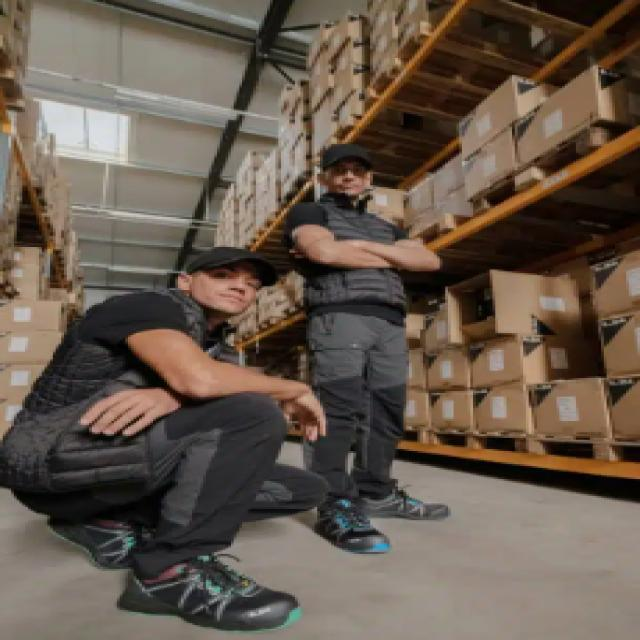shoes: (30, 501, 311, 640), (308, 482, 462, 561)
